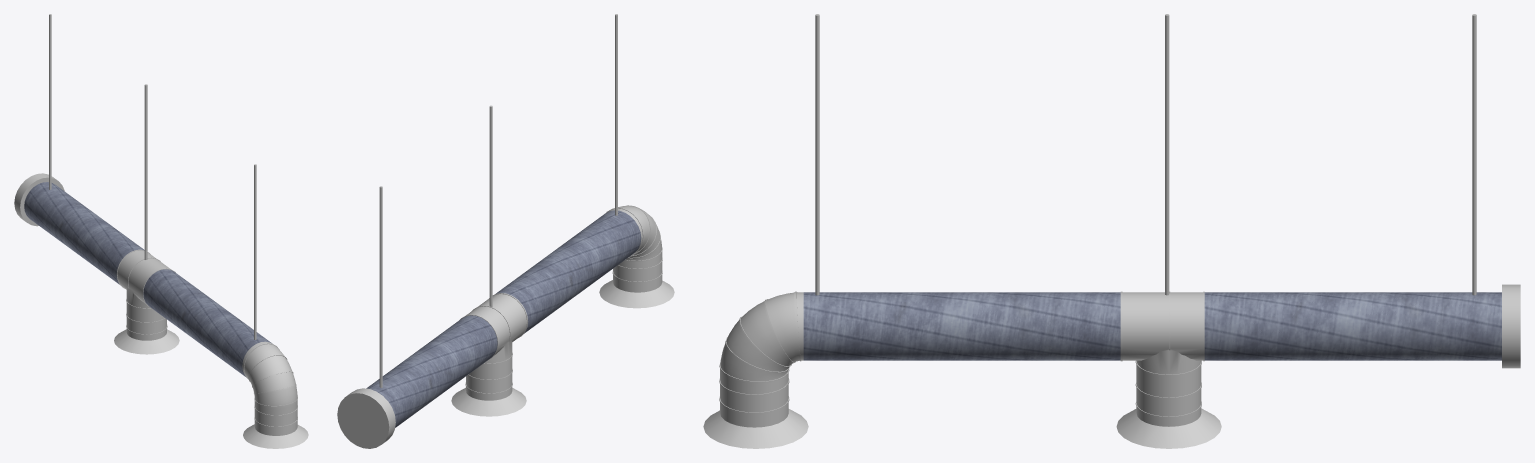
Rendered from SM_PipesAirShort.fbx.
3 renders of one model, left to right at view 1: azimuth 30°, elevation 25°; view 2: azimuth 150°, elevation 25°; view 3: azimuth 270°, elevation 25°, orthographic. The views are drawn at different scales.
Parts seen in each view (by area): view 1: SM_PipesAirShort_LOD0; view 2: SM_PipesAirShort_LOD0; view 3: SM_PipesAirShort_LOD0.
Boxes of the visible parts, x1,y1,x2,y2 form: SM_PipesAirShort_LOD0: [14, 14, 308, 448]; SM_PipesAirShort_LOD0: [337, 14, 674, 448]; SM_PipesAirShort_LOD0: [703, 14, 1520, 448].
Bounding box in the file's own units: 119 × 920 × 517.
2 materials, 1 textured.
